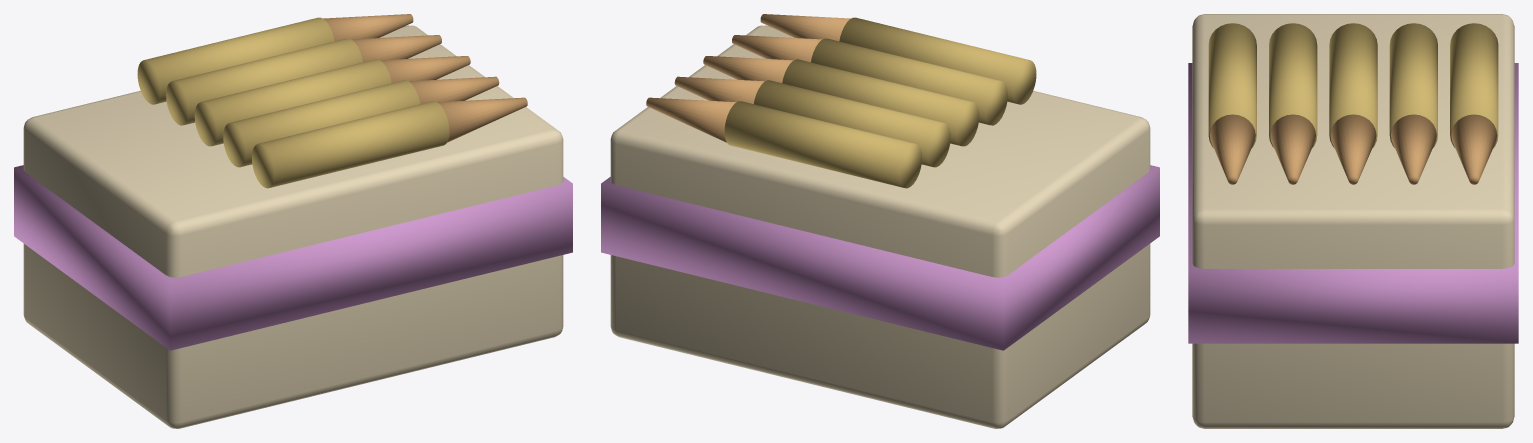
The model's file is SM_Ammo_762x54.glb.
3 views of the same model, side by side, from view 1: azimuth 30°, elevation 25°; view 2: azimuth 150°, elevation 25°; view 3: azimuth 270°, elevation 25° (orthographic). The views are drawn at different scales.
Visible parts, largest first — view 1: SM_Ammo_762x54; view 2: SM_Ammo_762x54; view 3: SM_Ammo_762x54.
Part boxes in pixels (<box>): SM_Ammo_762x54: <box>14,14,572,428</box>; SM_Ammo_762x54: <box>601,14,1159,428</box>; SM_Ammo_762x54: <box>1188,14,1518,428</box>.
Bounding box in the file's own units: 0.122 × 0.072 × 0.082.
